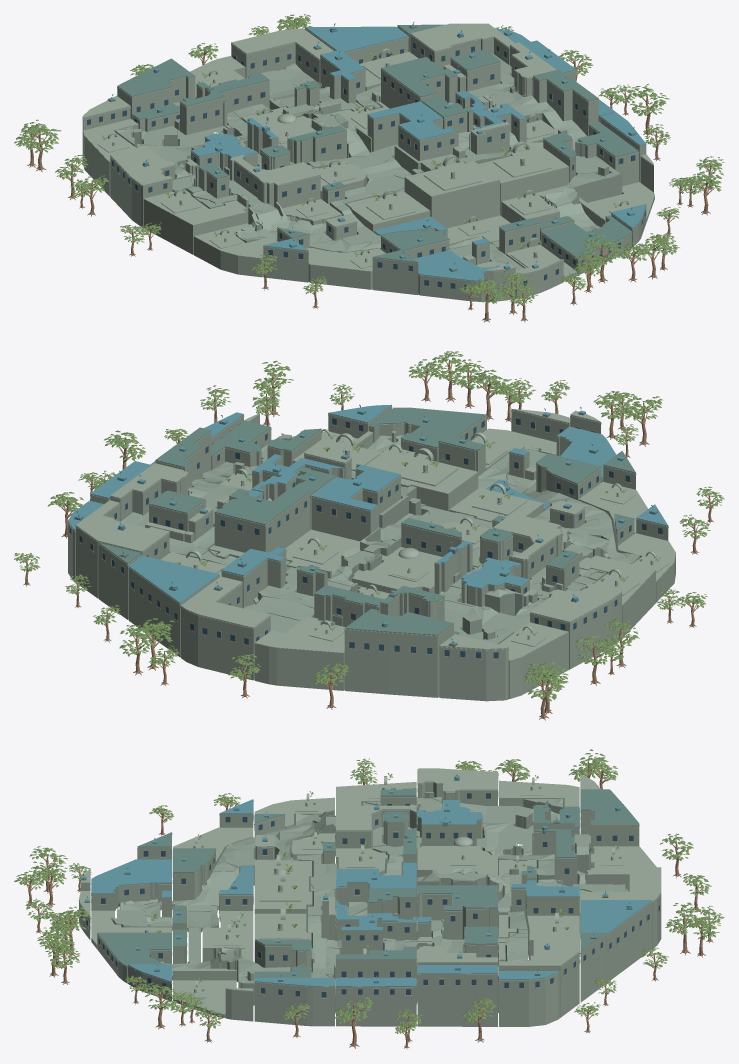
The model's file is ancient-night.glb.
The picture shows the model from 3 angles, top to bottom: view 1: azimuth 30°, elevation 25°; view 2: azimuth 150°, elevation 25°; view 3: azimuth 270°, elevation 25°; orthographic projection. The views are drawn at different scales.
Visible parts, largest first — view 1: ARENA_lower_stone, ARENA_lower_paving, ARENA_lower_roof, ARENA_lower_metal, ARENA_lower_leaf, ARENA_lower_bark, ARENA_lower_glass; view 2: ARENA_lower_stone, ARENA_lower_paving, ARENA_lower_roof, ARENA_lower_leaf, ARENA_lower_metal, ARENA_lower_bark, ARENA_lower_glass; view 3: ARENA_lower_stone, ARENA_lower_paving, ARENA_lower_metal, ARENA_lower_roof, ARENA_lower_leaf, ARENA_lower_bark, ARENA_lower_glass.
Boxes of the visible parts, x1,y1,x2,y2 form: ARENA_lower_stone: (82,23,654,301); ARENA_lower_paving: (115,53,622,270); ARENA_lower_roof: (117,24,638,262); ARENA_lower_metal: (108,21,646,281); ARENA_lower_leaf: (14,14,724,306); ARENA_lower_bark: (24,18,717,322); ARENA_lower_glass: (87,42,645,289); ARENA_lower_stone: (67,405,675,701); ARENA_lower_paving: (121,433,639,644); ARENA_lower_roof: (99,407,635,635); ARENA_lower_leaf: (14,351,724,701); ARENA_lower_metal: (68,404,668,645); ARENA_lower_bark: (21,359,718,720); ARENA_lower_glass: (69,418,662,658); ARENA_lower_stone: (78,768,661,1026); ARENA_lower_paving: (112,792,627,1012); ARENA_lower_metal: (81,774,651,986); ARENA_lower_roof: (97,788,639,977); ARENA_lower_leaf: (14,749,724,1034); ARENA_lower_bark: (22,761,716,1049); ARENA_lower_glass: (81,792,659,997).
Size of what is drawn, in the model's own units: 65.93 by 8.19 by 74.11.
